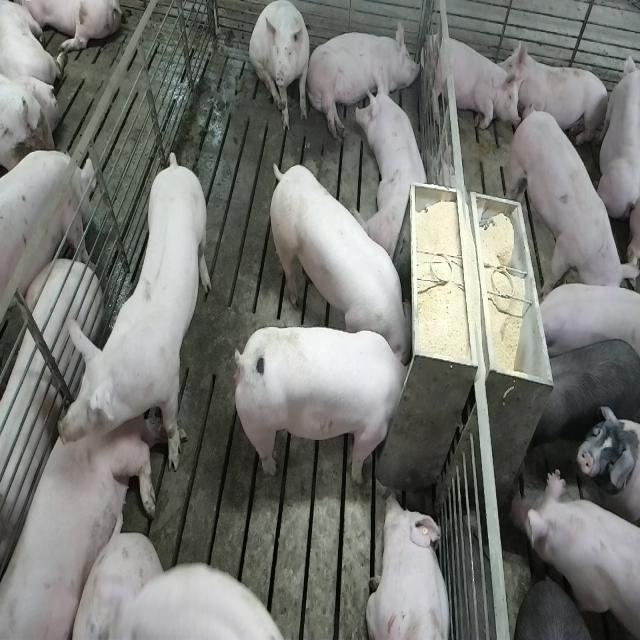Feeding: (265, 160, 411, 360), (239, 324, 418, 485)
Lateral_lying: (306, 19, 423, 140)
Sitting: (250, 2, 312, 134)
Standing: (58, 149, 210, 472), (508, 103, 633, 304), (512, 466, 638, 640), (0, 153, 94, 352), (529, 336, 639, 458), (530, 278, 639, 361)
Sternal_lying: (0, 368, 155, 640), (358, 70, 433, 259), (365, 489, 453, 640), (506, 40, 612, 153), (426, 31, 519, 134)
